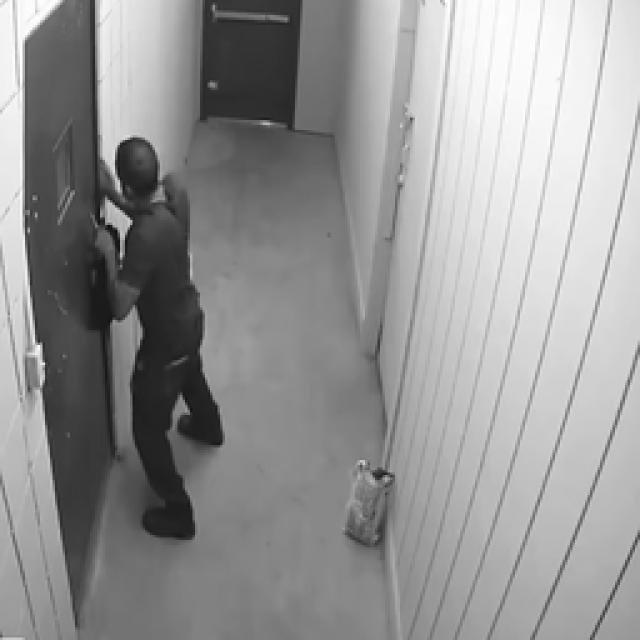Invader: (90, 135, 225, 540)
